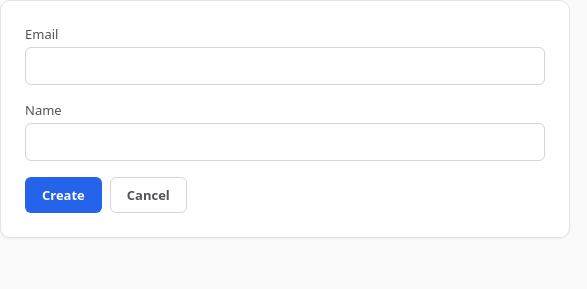
Test: UserForm (create) › blocks submit and shows a required error when a required field is empty
The image size is (587, 289).
Click the button "Create" at x=63, y=195, box [25,177,102,213]
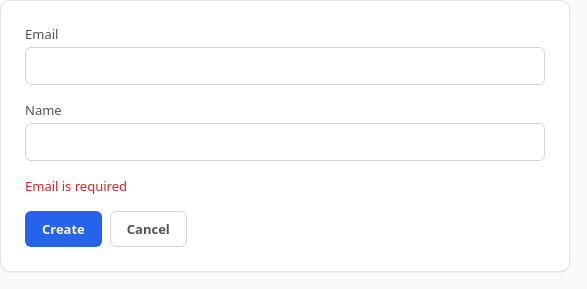
Expected: the text "Email is required" is shown, [25,177,127,195]
